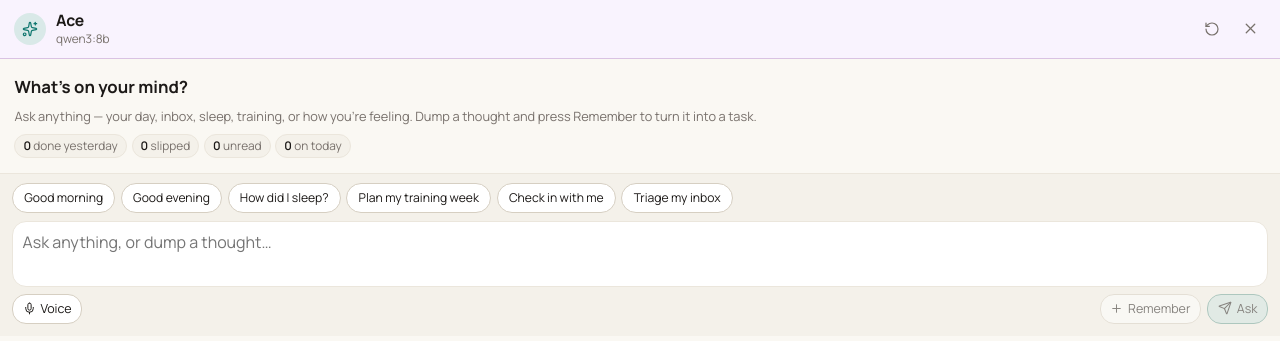
it: AceChat quick prompts › shows the short label but asks the model the full instruction
The width and height of the screenshot is (1280, 341).
Step 1. Click the button "Plan my training week" → (419, 198), box [346, 184, 491, 213]
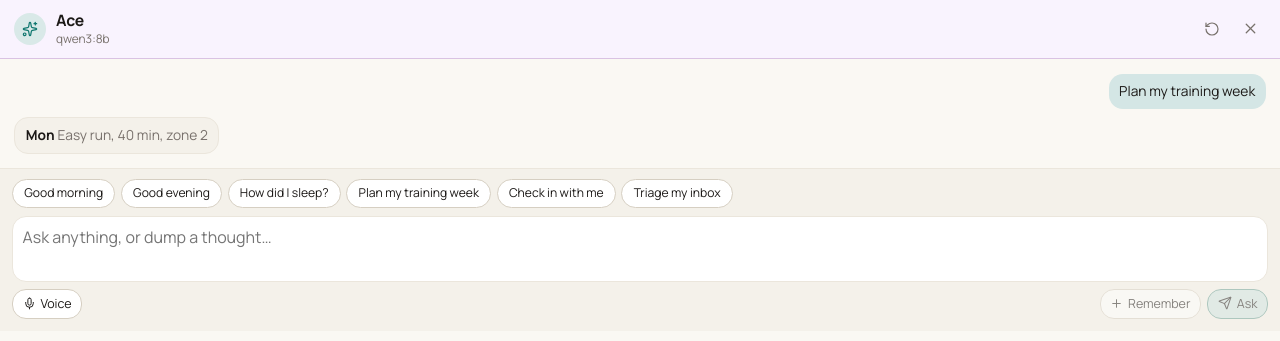
Expected: the text "Plan my training week" is shown, [1109, 74, 1266, 108]
Expected: the text "Mon" is shown, [26, 125, 55, 144]
